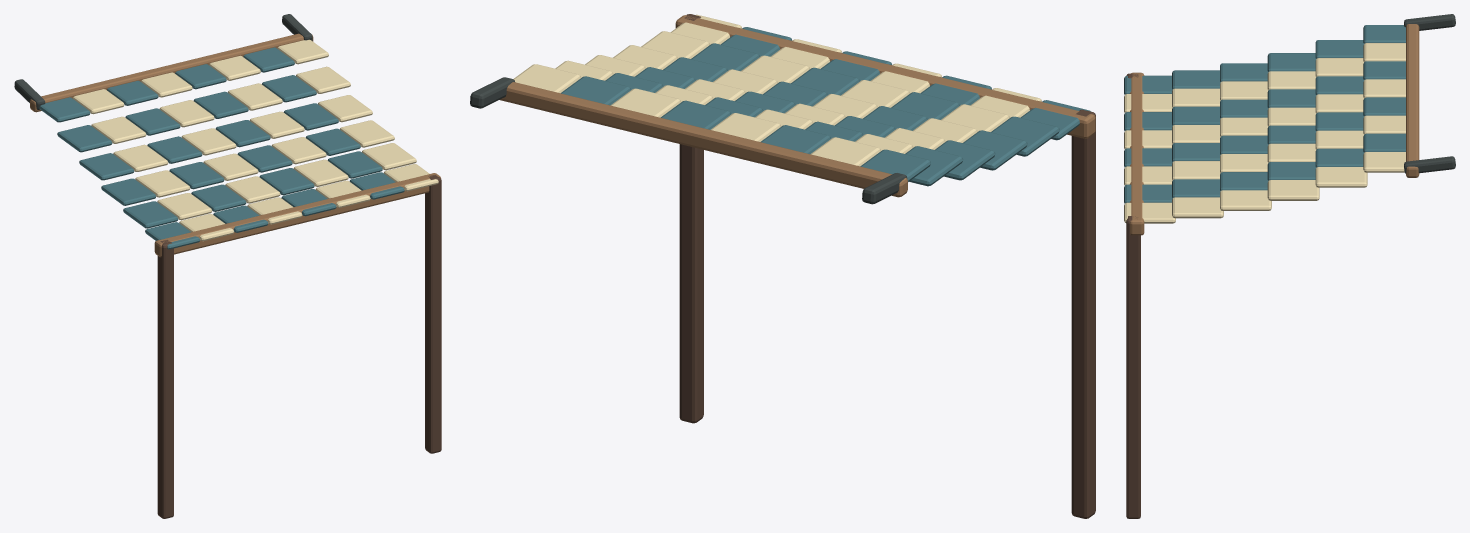
The model's file is attachment_market_awning__attachments.glb.
3 renders of one model, left to right at view 1: azimuth 30°, elevation 25°; view 2: azimuth 150°, elevation 25°; view 3: azimuth 270°, elevation 25°, orthographic. The views are drawn at different scales.
Visible parts, largest first — view 1: attachment_market_awning__attachments__mesh_00; view 2: attachment_market_awning__attachments__mesh_00; view 3: attachment_market_awning__attachments__mesh_00.
Part boxes in pixels (left/top/right/bottom): attachment_market_awning__attachments__mesh_00: left=14, top=14, right=441, bottom=518; attachment_market_awning__attachments__mesh_00: left=470, top=14, right=1095, bottom=518; attachment_market_awning__attachments__mesh_00: left=1124, top=14, right=1455, bottom=518.
Bounding box in the file's own units: 2.15 × 2.4 × 2.01.
